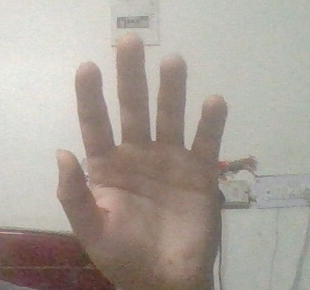move: (38, 29, 237, 273)
